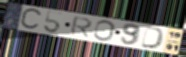5: (43, 10, 67, 34)
9: (119, 23, 143, 46)
C: (18, 7, 44, 31)
D: (140, 26, 167, 50)
O: (93, 20, 116, 43)
R: (68, 16, 94, 39)
